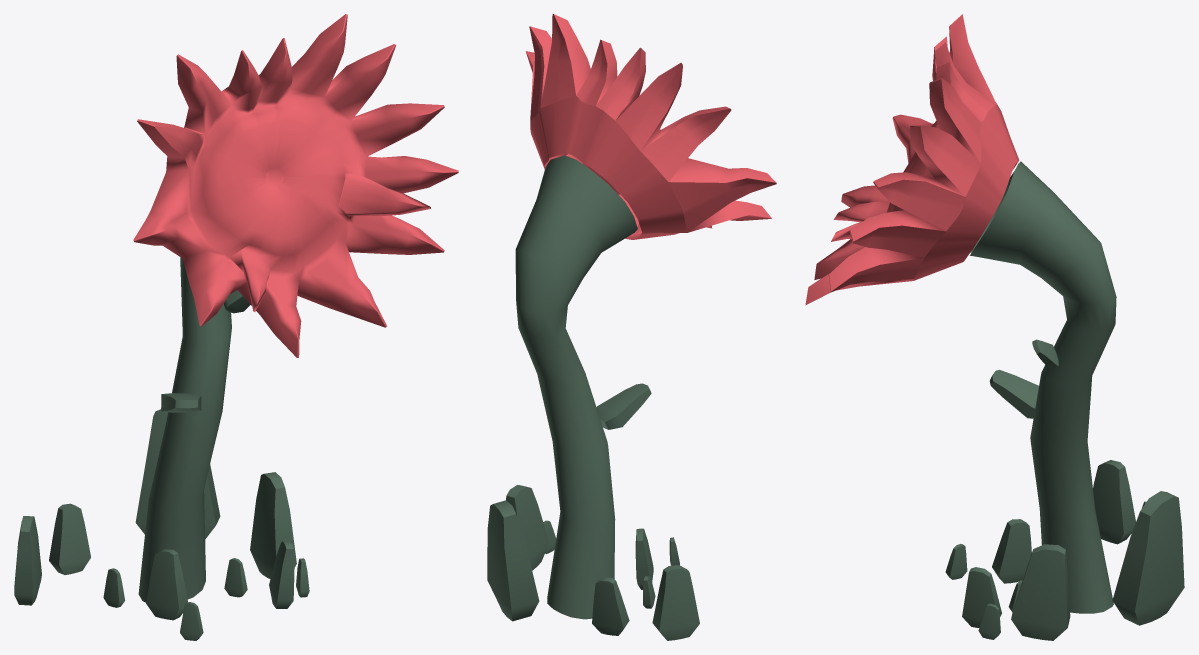
File: ChunkyFlower.fbx
The picture shows the model from 3 angles, left to right: view 1: azimuth 30°, elevation 25°; view 2: azimuth 150°, elevation 25°; view 3: azimuth 270°, elevation 25°; orthographic projection. The views are drawn at different scales.
Visible parts, largest first — view 1: ChunkyFlower, ChunkyStem, Cactus_02, Cactus_06, Cactus_03, Cactus_013, Cactus_01, Cactus_04, Cactus_07, Cactus_010, Cactus_012, Cactus_09; view 2: ChunkyStem, ChunkyFlower, Cactus_013, Cactus_01, Cactus_02, Cactus_06, Cactus_07, Cactus_03; view 3: ChunkyFlower, ChunkyStem, Cactus_013, Cactus_02, Cactus_01, Cactus_03, Cactus_04, Cactus_07, Cactus_011, Cactus_010.
Part boxes in pixels (x1,y1,x2,y2): ChunkyFlower: [133, 14, 458, 357]; ChunkyStem: [138, 257, 231, 602]; Cactus_02: [250, 472, 296, 578]; Cactus_06: [49, 503, 90, 574]; Cactus_03: [146, 549, 187, 620]; Cactus_013: [135, 409, 220, 539]; Cactus_01: [14, 516, 41, 605]; Cactus_04: [269, 541, 294, 608]; Cactus_07: [161, 393, 201, 412]; Cactus_010: [180, 602, 203, 640]; Cactus_012: [224, 558, 247, 597]; Cactus_09: [103, 568, 125, 607]; ChunkyStem: [515, 155, 637, 619]; ChunkyFlower: [525, 14, 776, 239]; Cactus_013: [487, 500, 539, 621]; Cactus_01: [652, 565, 699, 640]; Cactus_02: [506, 485, 549, 570]; Cactus_06: [592, 577, 629, 635]; Cactus_07: [596, 383, 651, 429]; Cactus_03: [635, 528, 653, 589]; ChunkyFlower: [805, 14, 1019, 305]; ChunkyStem: [970, 161, 1116, 613]; Cactus_013: [1112, 491, 1184, 625]; Cactus_02: [1011, 544, 1070, 640]; Cactus_01: [1093, 460, 1135, 544]; Cactus_03: [992, 519, 1031, 583]; Cactus_04: [962, 567, 1001, 627]; Cactus_07: [989, 370, 1038, 418]; Cactus_011: [978, 603, 1000, 639]; Cactus_010: [945, 544, 967, 579].
Size of the model in its own units: 7.51 by 13.74 by 8.15.
